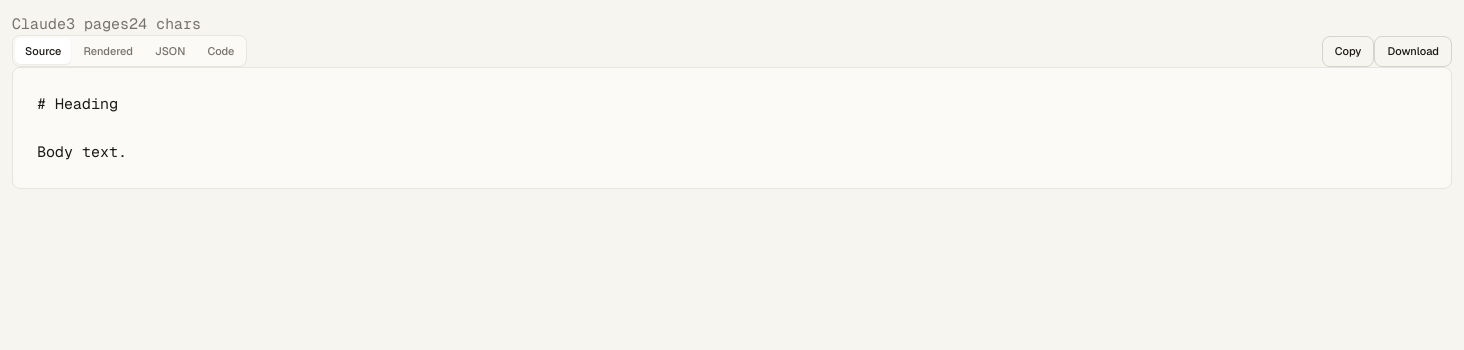
MarkdownResults › drops code from the JSON view, since the snippet has its own segment
Click the button "JSON" at x=170, y=51, box x1=145 y1=38 x2=196 y2=64
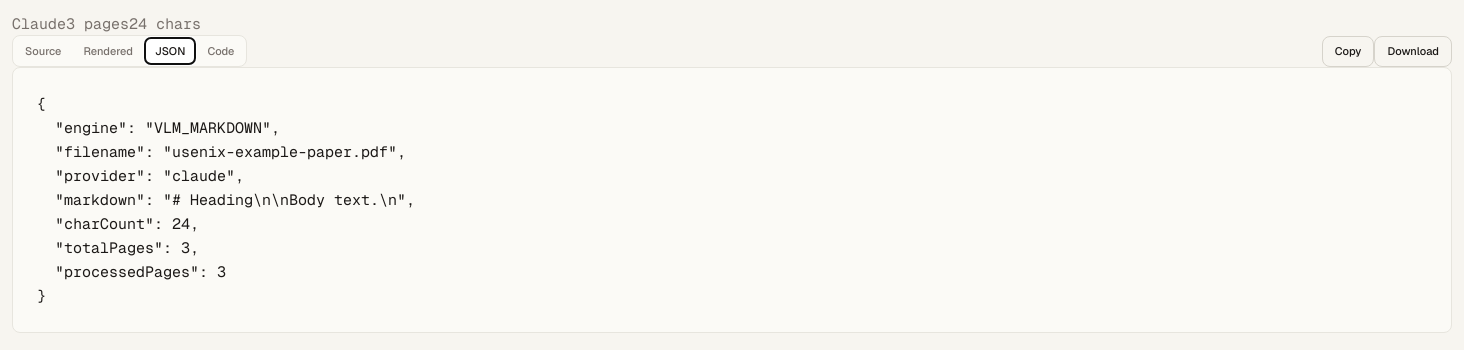
Result: the text "\"engine\": \"VLM_MARKDOWN\"" is shown at x1=37 y1=94 x2=415 y2=305
